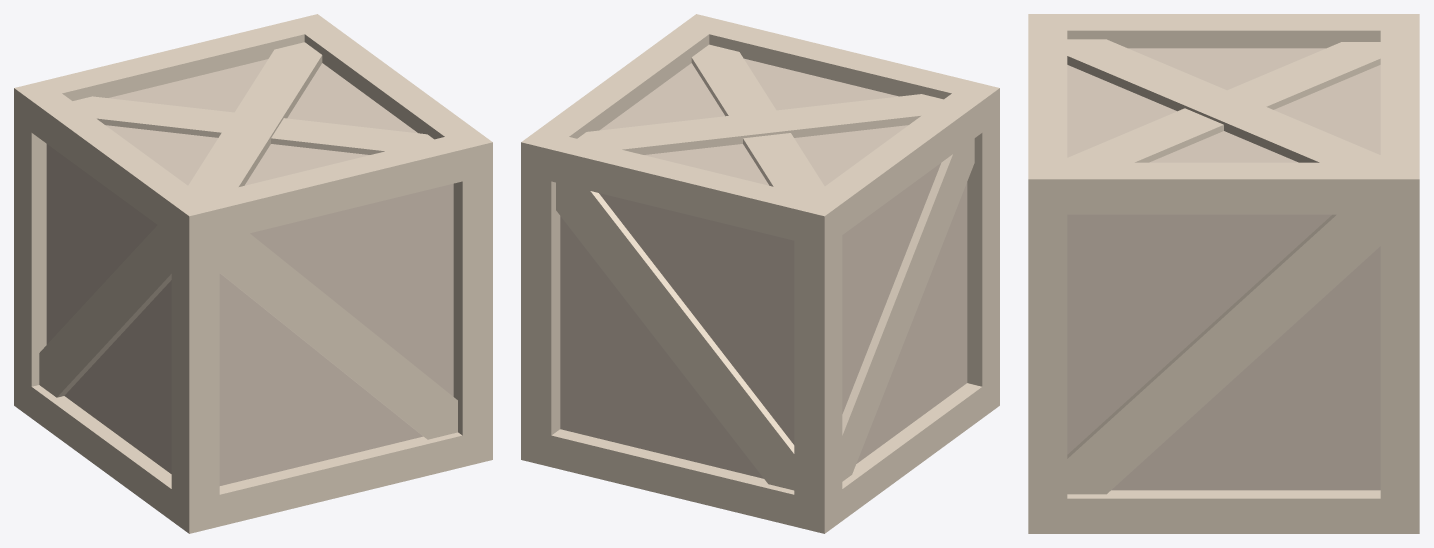
The model's file is prop_floor_crate.glb.
The picture shows the model from 3 angles, left to right: view 1: azimuth 30°, elevation 25°; view 2: azimuth 150°, elevation 25°; view 3: azimuth 270°, elevation 25°; orthographic projection. The views are drawn at different scales.
Parts seen in each view (by area): view 1: prop_floor_crate; view 2: prop_floor_crate; view 3: prop_floor_crate.
Boxes of the visible parts, x1,y1,x2,y2 form: prop_floor_crate: (14, 14, 492, 533); prop_floor_crate: (521, 14, 999, 533); prop_floor_crate: (1028, 14, 1419, 533).
Bounding box in the file's own units: 1 × 1 × 1.
